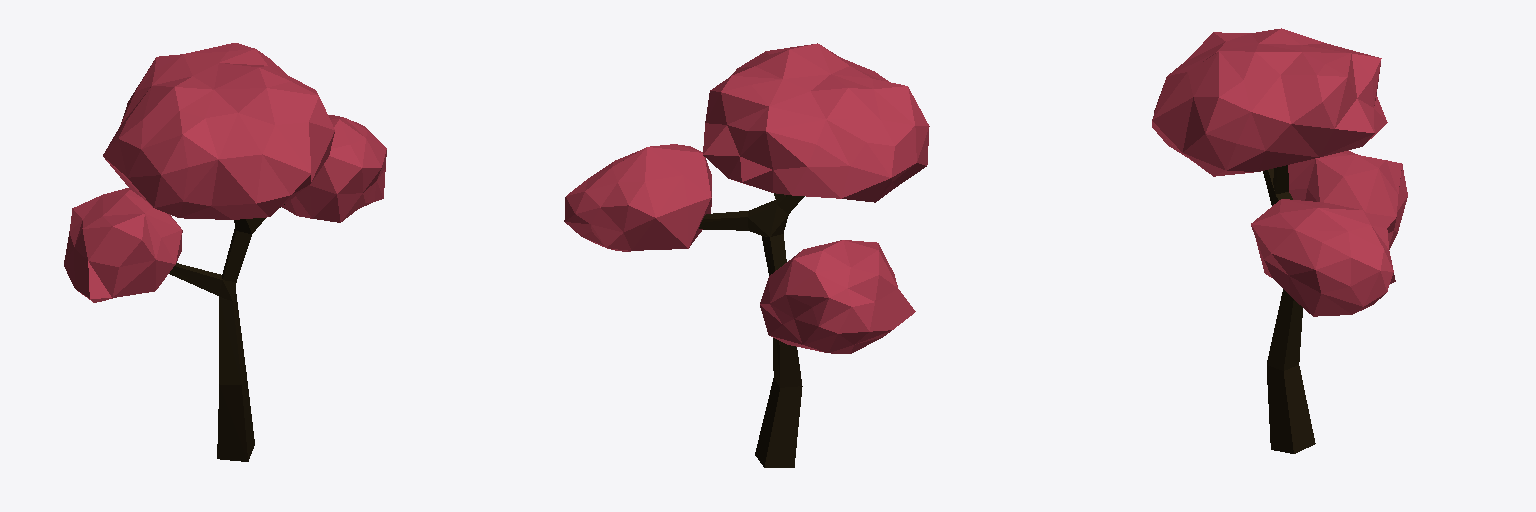
The picture shows the model from 3 angles: view 1: azimuth 30°, elevation 25°; view 2: azimuth 150°, elevation 25°; view 3: azimuth 270°, elevation 25°; orthographic projection.
Parts seen in each view (by area): view 1: Cube.001; view 2: Cube.001; view 3: Cube.001.
Part boxes in pixels (left/top/right/bottom): Cube.001: left=64, top=43, right=386, bottom=461; Cube.001: left=564, top=43, right=929, bottom=467; Cube.001: left=1152, top=28, right=1407, bottom=453.
Bounding box in the file's own units: 5.53 × 6.71 × 3.9.
Materials: 1 (1 with a texture image).